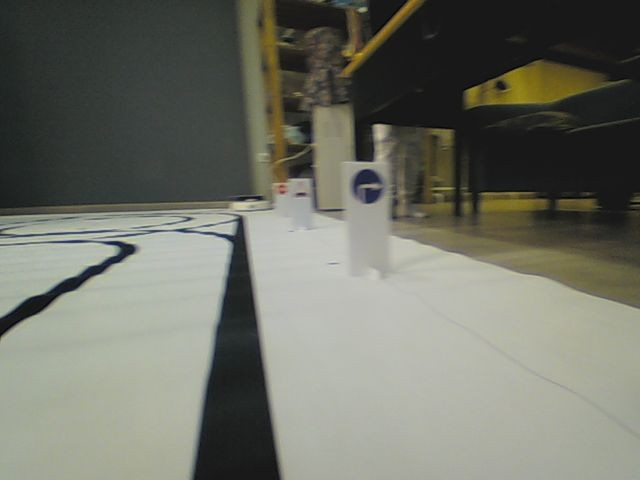Right: (349, 167, 383, 203)
